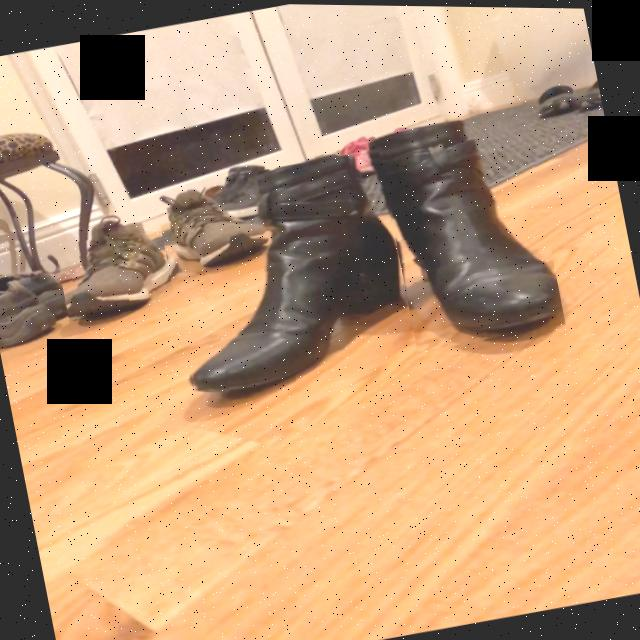shoe: (194, 154, 402, 398), (373, 129, 564, 334), (65, 229, 179, 320), (161, 187, 268, 267)
